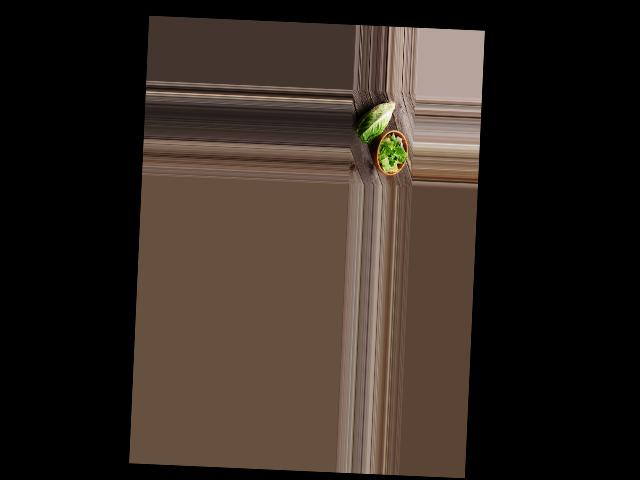lettuce: (354, 100, 395, 144)
